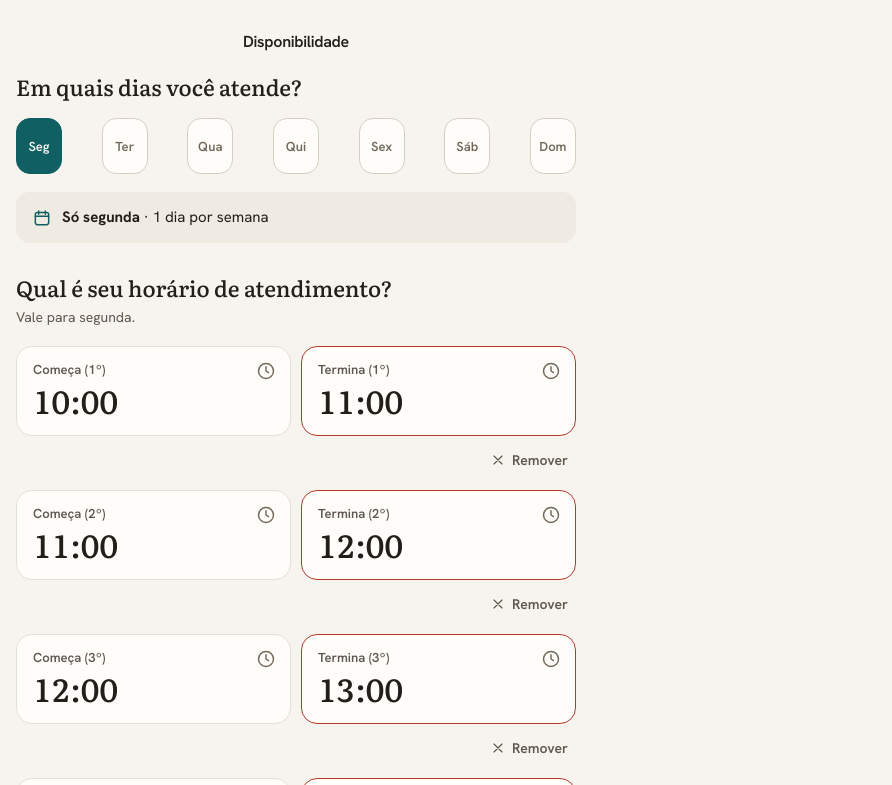
Test: Disponibilidade: limite de 28 regras ao ligar um dia › ligar um dia no limite recusa com texto de produto e não envia
Click the checkbox named "Terça" at (125, 146), box [102, 118, 148, 174]
(page scrolled)
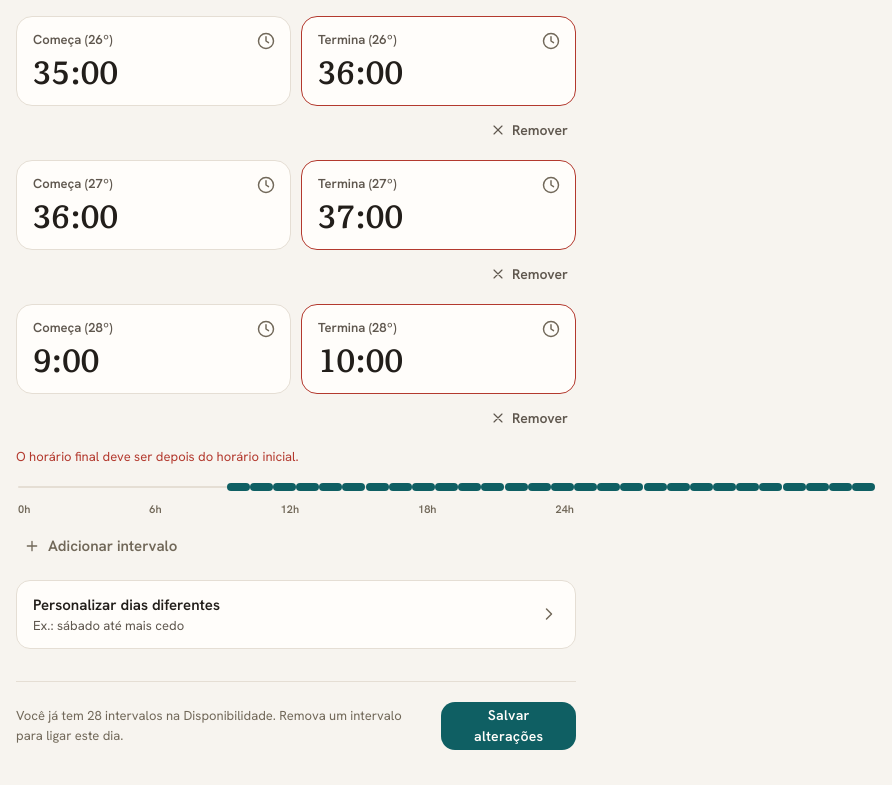
Check: the text "Você já tem 28 intervalos na Disponibilidade. Remova um intervalo para ligar este dia." is shown, box [16, 707, 402, 744]
